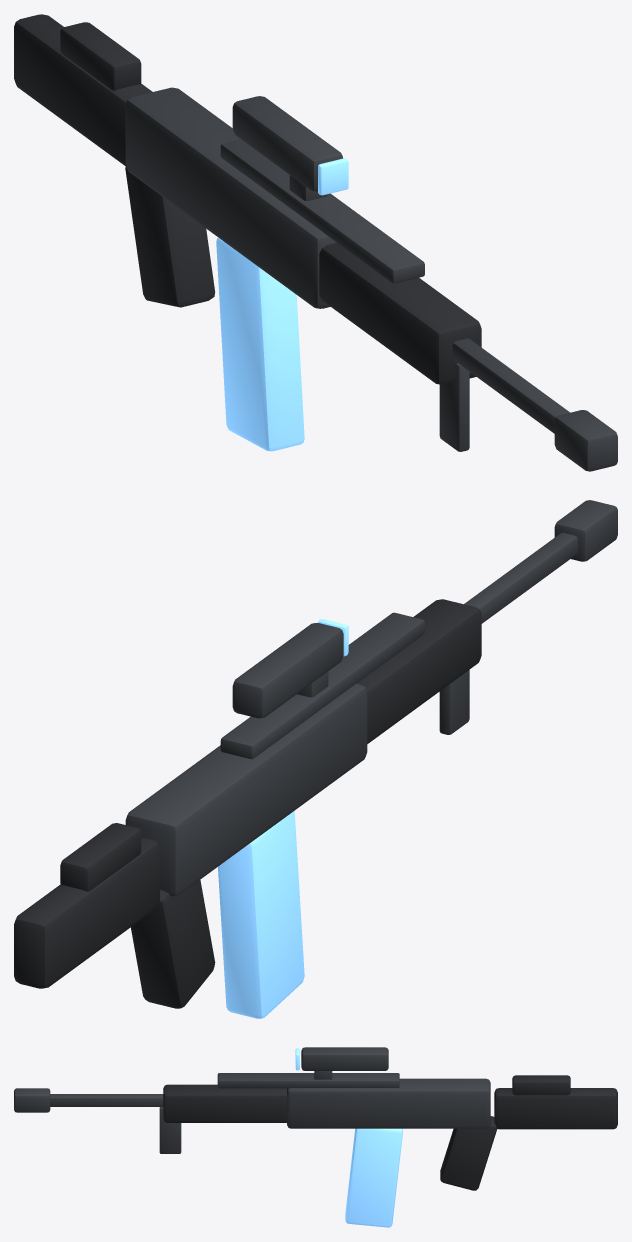
Rendered from weapon_rifle.glb.
The picture shows the model from 3 angles, top to bottom: view 1: azimuth 30°, elevation 25°; view 2: azimuth 150°, elevation 25°; view 3: azimuth 270°, elevation 25°; orthographic projection. The views are drawn at different scales.
Visible parts, largest first — view 1: receiver, mag, handguard, stock, grip, rail, scope_body, barrel, cheek, muzzle, bipod, scope_glass; view 2: receiver, mag, stock, handguard, grip, rail, scope_body, cheek, barrel, muzzle, bipod; view 3: receiver, mag, stock, handguard, rail, grip, scope_body, barrel, cheek, muzzle, bipod.
Part boxes in pixels (x1=…): receiver: x1=125, y1=87, x2=336, y2=308; mag: x1=216, y1=237, x2=304, y2=451; handguard: x1=319, y1=242, x2=481, y2=384; stock: x1=14, y1=14, x2=152, y2=165; grip: x1=125, y1=166, x2=215, y2=307; rail: x1=220, y1=139, x2=424, y2=283; scope_body: x1=232, y1=96, x2=342, y2=191; barrel: x1=452, y1=338, x2=569, y2=433; cheek: x1=60, y1=22, x2=141, y2=90; muzzle: x1=554, y1=410, x2=617, y2=471; bipod: x1=439, y1=363, x2=469, y2=451; scope_glass: x1=318, y1=158, x2=348, y2=195; receiver: x1=125, y1=683, x2=367, y2=896; mag: x1=218, y1=811, x2=304, y2=1018; stock: x1=14, y1=837, x2=159, y2=988; handguard: x1=357, y1=599, x2=481, y2=743; grip: x1=131, y1=880, x2=215, y2=1008; rail: x1=220, y1=612, x2=424, y2=759; scope_body: x1=232, y1=623, x2=343, y2=718; cheek: x1=60, y1=823, x2=141, y2=891; barrel: x1=464, y1=533, x2=577, y2=623; muzzle: x1=554, y1=500, x2=617, y2=561; bipod: x1=439, y1=670, x2=469, y2=734; receiver: x1=287, y1=1078, x2=490, y2=1128; mag: x1=345, y1=1128, x2=402, y2=1227; stock: x1=494, y1=1088, x2=617, y2=1129; handguard: x1=163, y1=1084, x2=287, y2=1122; rail: x1=217, y1=1073, x2=399, y2=1088; grip: x1=440, y1=1116, x2=497, y2=1190; scope_body: x1=301, y1=1047, x2=388, y2=1070; barrel: x1=50, y1=1094, x2=163, y2=1106; cheek: x1=512, y1=1075, x2=570, y2=1095; muzzle: x1=14, y1=1088, x2=50, y2=1112; bipod: x1=159, y1=1107, x2=181, y2=1153.
Bounding box in the file's own units: 0.09 × 0.5274 × 1.66.
